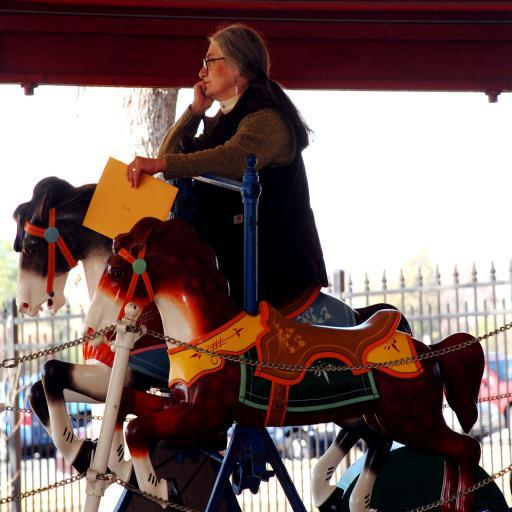Horse: (14, 176, 415, 512), (80, 215, 486, 512)
